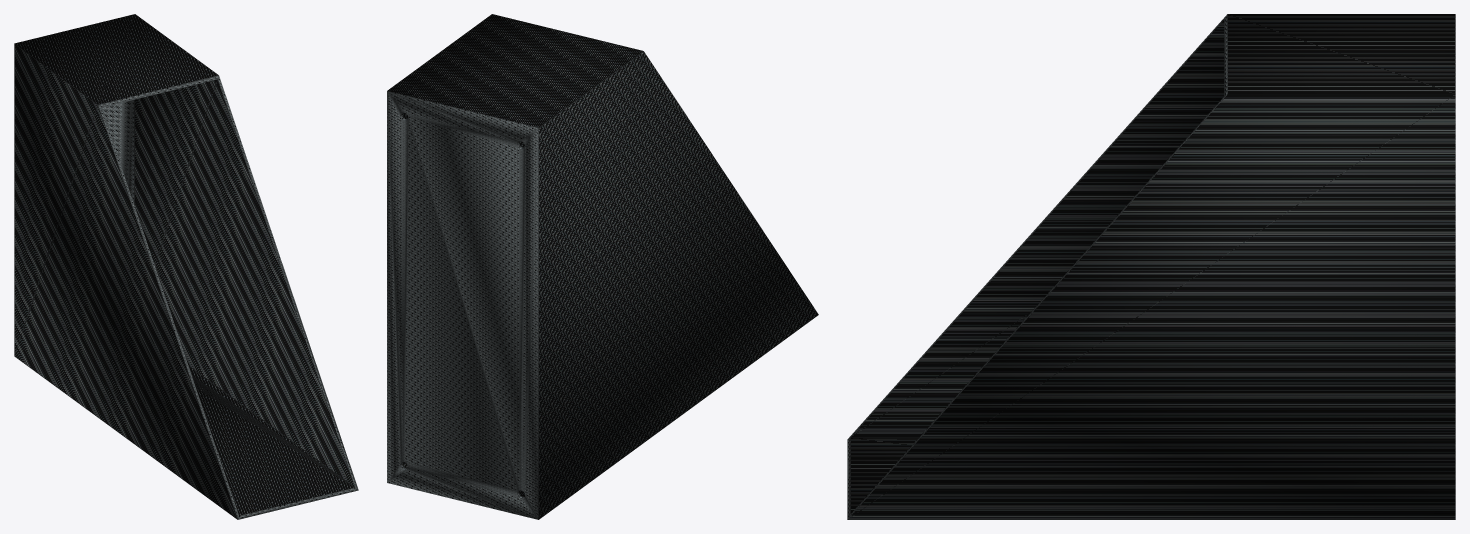
3 renders of one model, left to right at view 1: azimuth 30°, elevation 25°; view 2: azimuth 150°, elevation 25°; view 3: azimuth 270°, elevation 25°, orthographic. The views are drawn at different scales.
Size of the model in its own units: 0.1 by 0.247 by 0.32.
